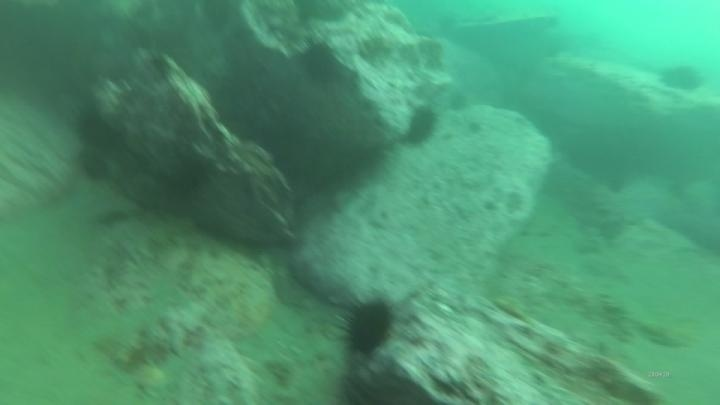echinus: (337, 296, 400, 357), (68, 107, 119, 156), (296, 39, 341, 88), (656, 61, 706, 96), (403, 103, 441, 148), (76, 145, 113, 184), (198, 1, 240, 34), (446, 89, 472, 115)
